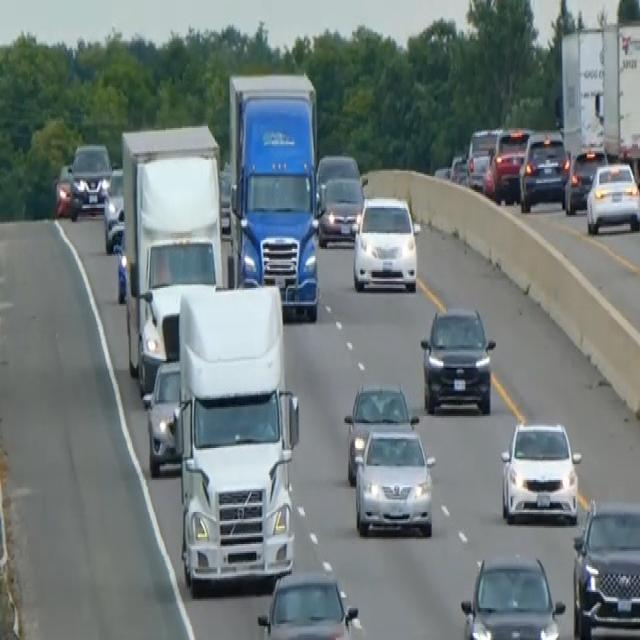car: (571, 496, 639, 638), (353, 423, 435, 537), (135, 279, 214, 397), (459, 551, 565, 638), (499, 418, 582, 524), (419, 304, 496, 414), (343, 381, 417, 484), (256, 567, 361, 638), (352, 194, 419, 292), (142, 358, 182, 477), (518, 130, 569, 212), (585, 158, 639, 235), (484, 126, 532, 203), (317, 174, 364, 247), (68, 140, 112, 217), (563, 142, 608, 214), (315, 151, 361, 210), (465, 126, 500, 190), (102, 165, 125, 252), (53, 162, 74, 217), (114, 228, 127, 302), (448, 151, 468, 185)
lorry: (174, 281, 300, 594), (226, 69, 321, 322)
